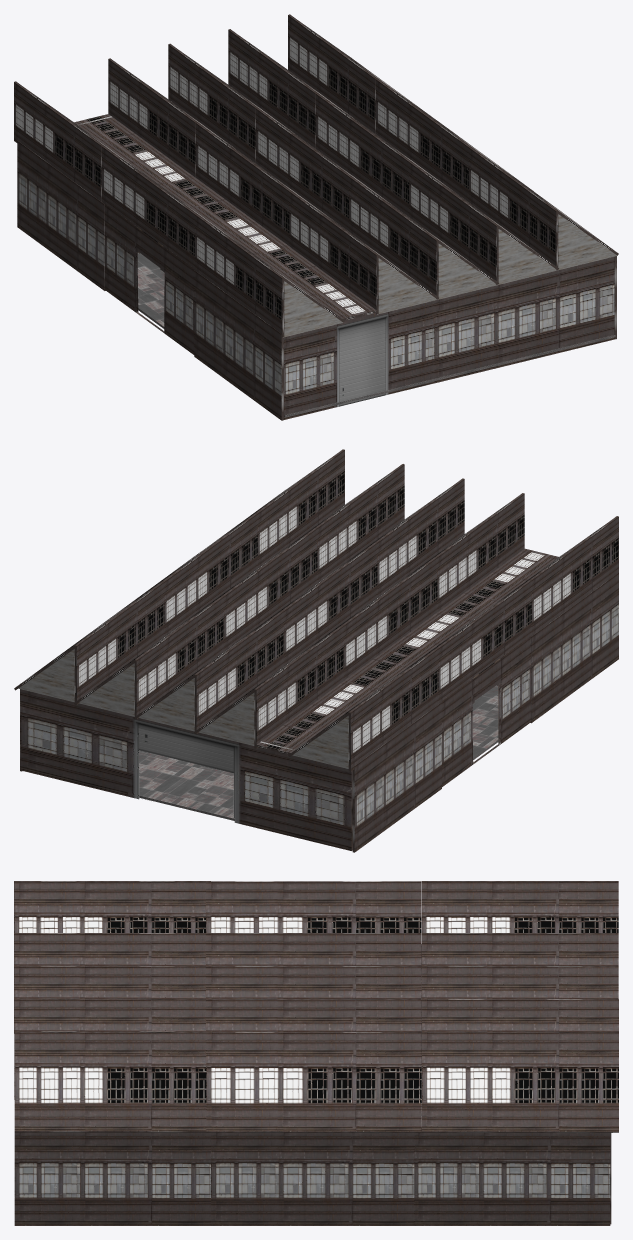
Rendered from warehouse_building.glb.
3 views of the same model, one above another, from view 1: azimuth 30°, elevation 25°; view 2: azimuth 150°, elevation 25°; view 3: azimuth 270°, elevation 25° (orthographic). The views are drawn at different scales.
Visible parts, largest first — view 1: Factory002, Object001_20 - Default_0; view 2: Factory002, Object001_20 - Default_0; view 3: Factory002.
Part boxes in pixels (x1,y1,x2,y2): Factory002: [14, 14, 618, 420]; Object001_20 - Default_0: [137, 253, 615, 417]; Factory002: [14, 449, 618, 852]; Object001_20 - Default_0: [139, 685, 498, 820]; Factory002: [14, 881, 618, 1225].
Bounding box in the file's own units: 3188 × 1291 × 4396.
7 materials, 7 textured.
